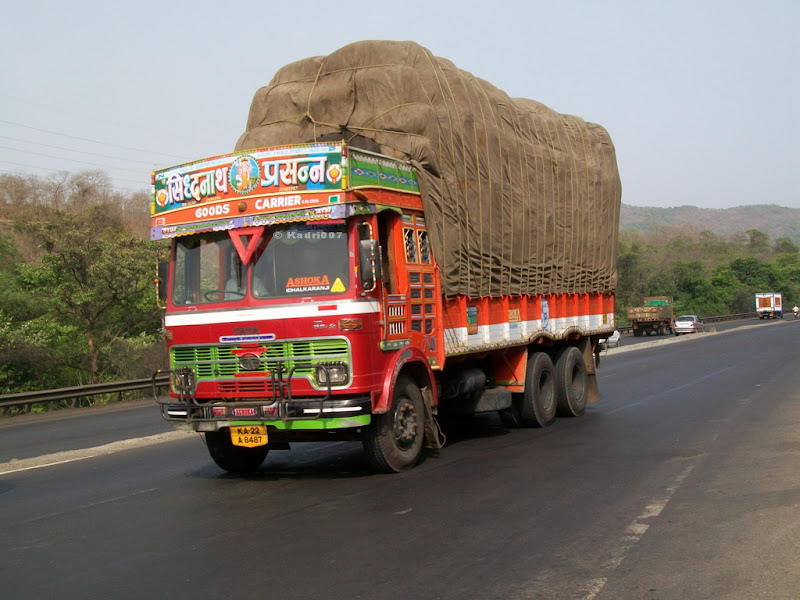car: (674, 315, 704, 332)
truck: (151, 61, 611, 445), (628, 297, 674, 335), (756, 291, 783, 319)
